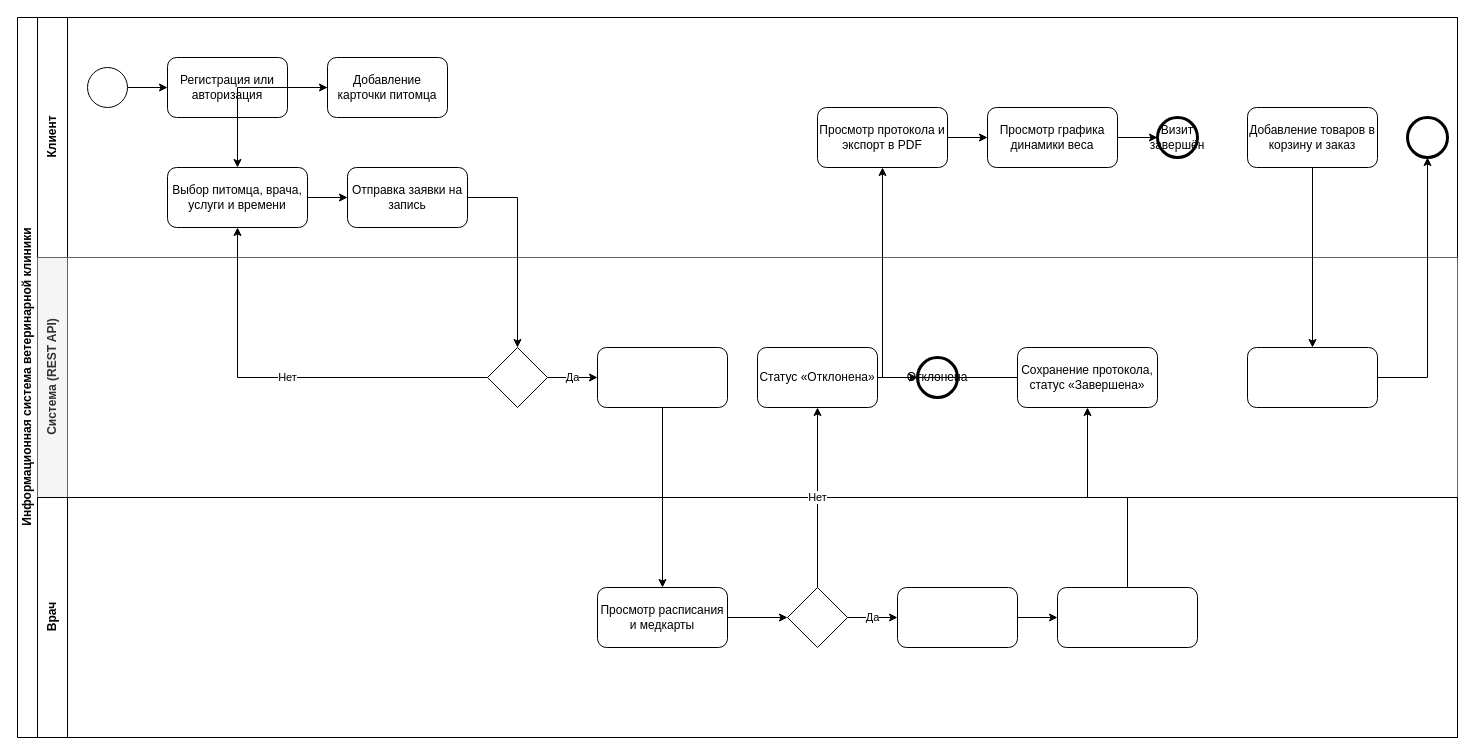
Some shapes in this 1475 by 755 pixel diagram are drawn without their labels. The shapes that lost their labels are listed below. From the top down, each one's centre as x and y in pixels, then its label:
At point (107, 87): "Вход в систему".
At point (1427, 137): "Заказ оформлен".
At point (517, 377): "Время свободно?".
At point (662, 377): "Сохранение со статусом «Ожидает»".
At point (1312, 377): "Создание заказа в БД".
At point (817, 617): "Принять?".
At point (957, 617): "Проведение приёма".
At point (1127, 617): "Ввод веса, диагнозов, лечения и лекарств".
